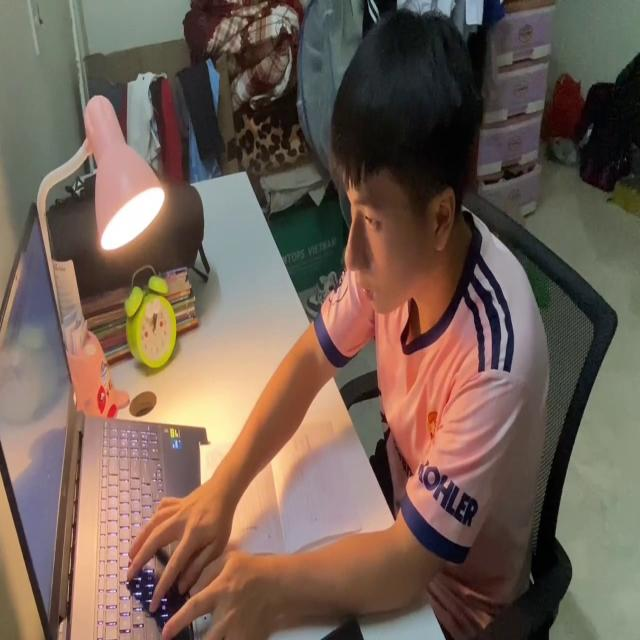book: (198, 418, 354, 562)
laptop: (0, 187, 222, 640)
student: (124, 2, 554, 640)
